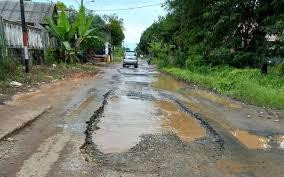Pothole: (69, 68, 219, 176), (221, 117, 284, 158)
